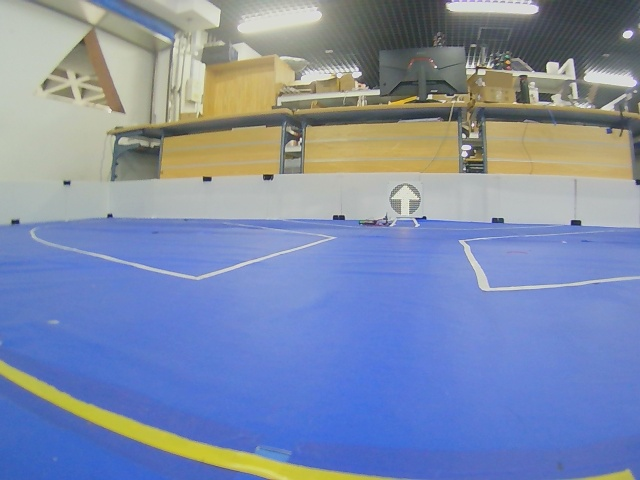straight_yellow: (390, 184, 421, 216)
